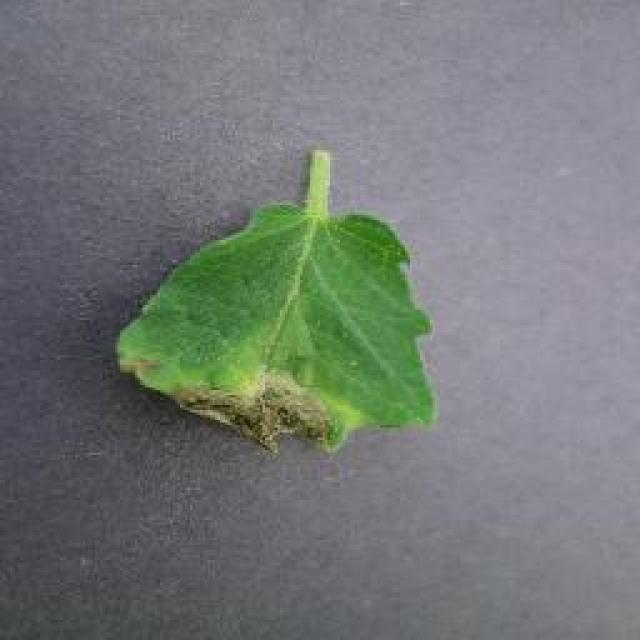Tomato late blight leaf: (119, 195, 436, 447)
